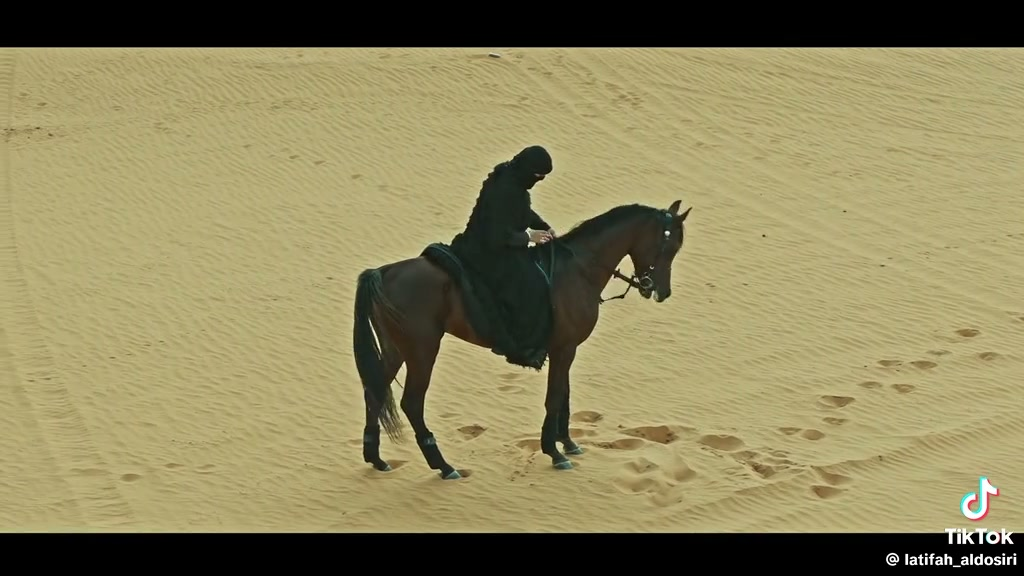animal_foot_print: (613, 453, 697, 505), (730, 449, 803, 479), (810, 466, 851, 499), (858, 380, 916, 393), (877, 359, 937, 371), (777, 427, 825, 440), (498, 372, 525, 393), (817, 395, 855, 408), (457, 424, 487, 440), (822, 416, 848, 425)
